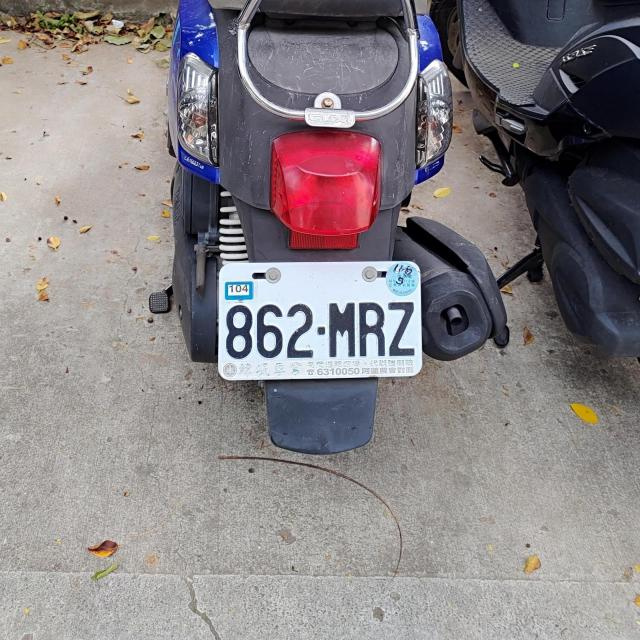W: (217, 261, 423, 381)
